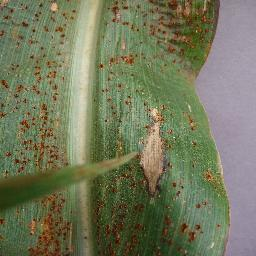Corn_Blight: (1, 1, 75, 254), (99, 1, 217, 73), (90, 198, 214, 256), (95, 75, 140, 198), (174, 103, 223, 197), (141, 99, 173, 198), (214, 220, 224, 233)
